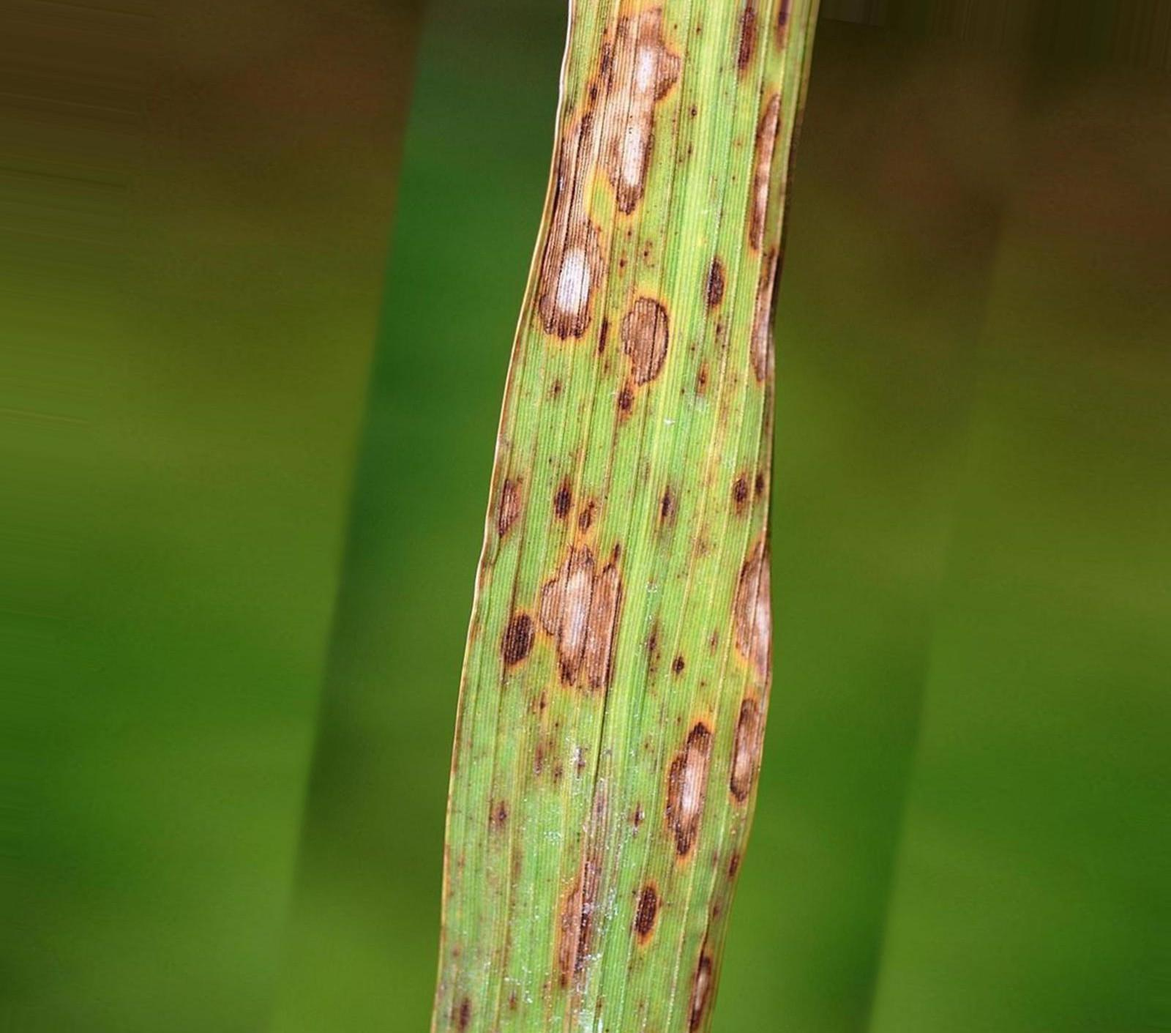LEAF BLAST: (591, 7, 680, 214), (537, 95, 604, 338), (530, 536, 627, 697), (559, 785, 608, 987), (665, 719, 714, 858), (747, 95, 783, 255), (731, 541, 770, 686), (749, 240, 780, 383), (622, 297, 668, 383), (729, 699, 766, 802), (686, 924, 715, 1032), (728, 467, 769, 521), (633, 880, 661, 948), (502, 612, 534, 665), (497, 480, 519, 537), (706, 256, 725, 309), (554, 476, 572, 518), (579, 501, 594, 531), (618, 384, 633, 412)
